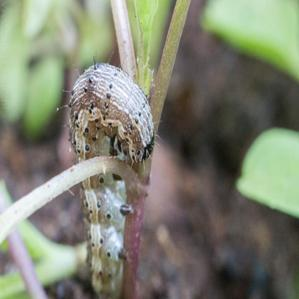Cotton bollworm: (47, 56, 169, 299)
